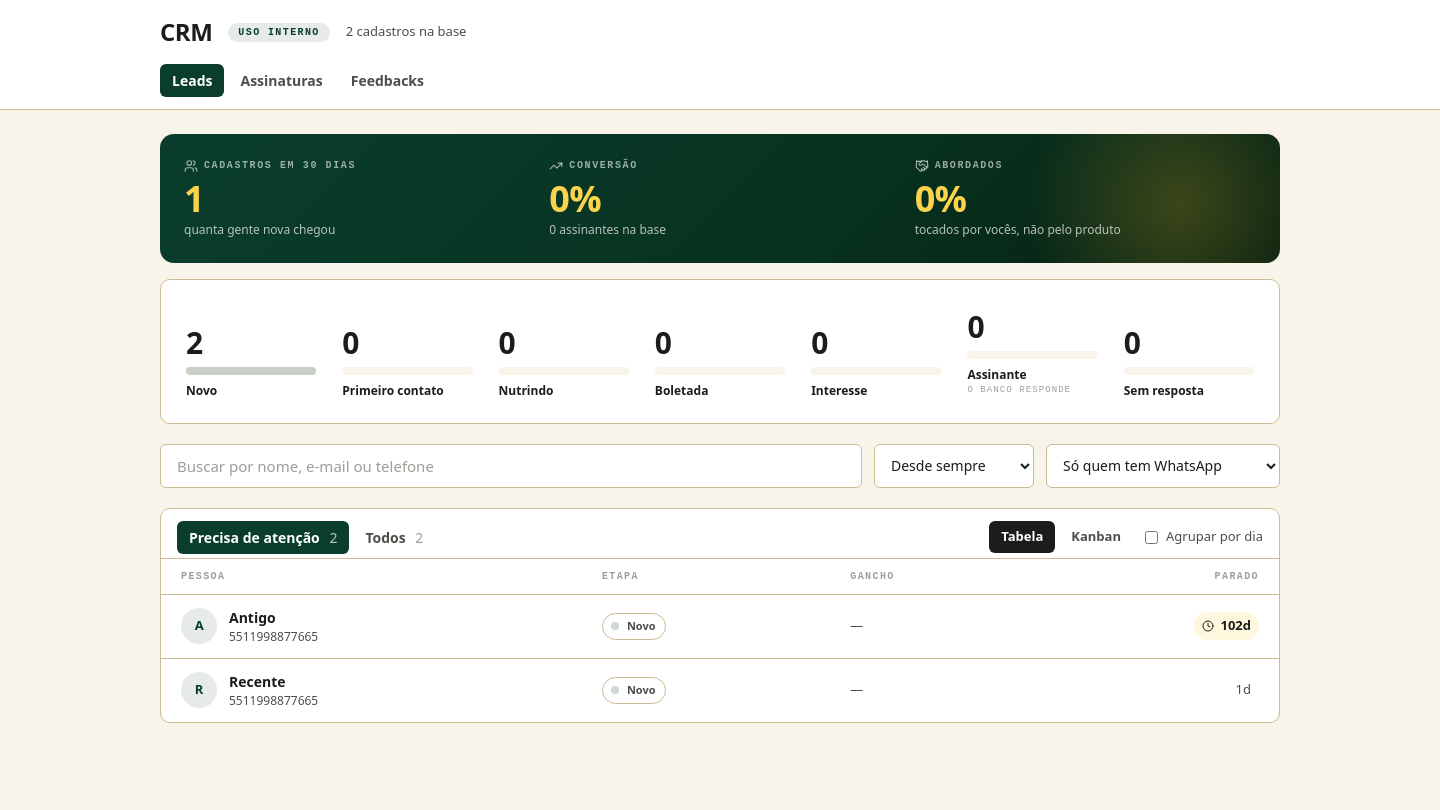
PainelCrm · o filtro de data › os campos de data só aparecem no personalizado
Select "Escolher as datas" in the dropdown named "Período de cadastro" at (954, 466), box [874,444,1034,488]
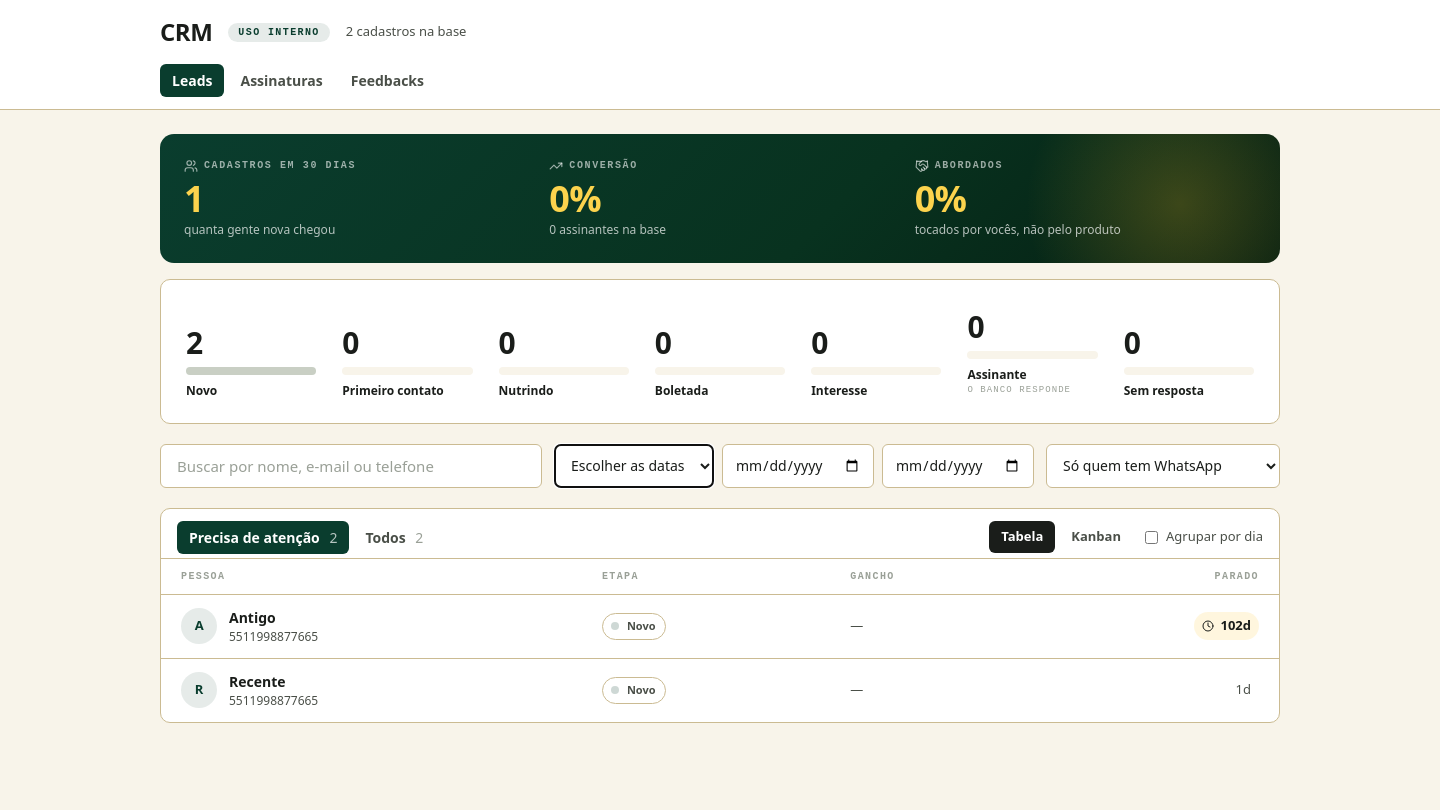
Now the date field named "Cadastrado a partir de" is shown, box [722,444,874,488]
